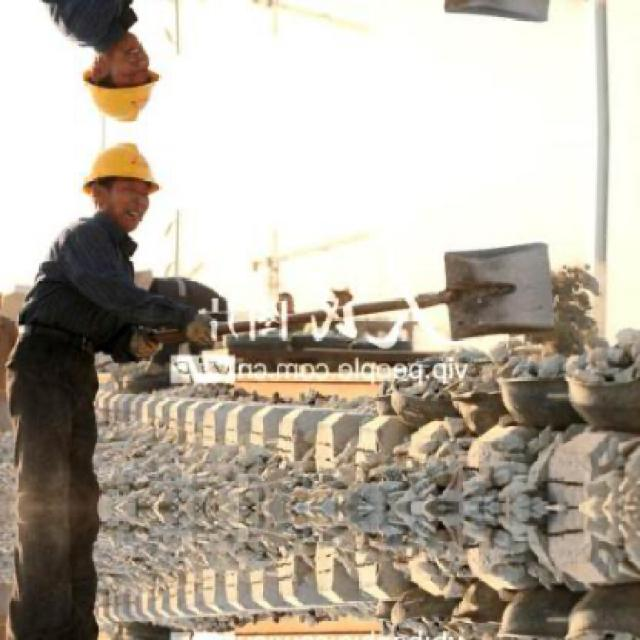helmet: (78, 134, 170, 234), (78, 29, 170, 129)
